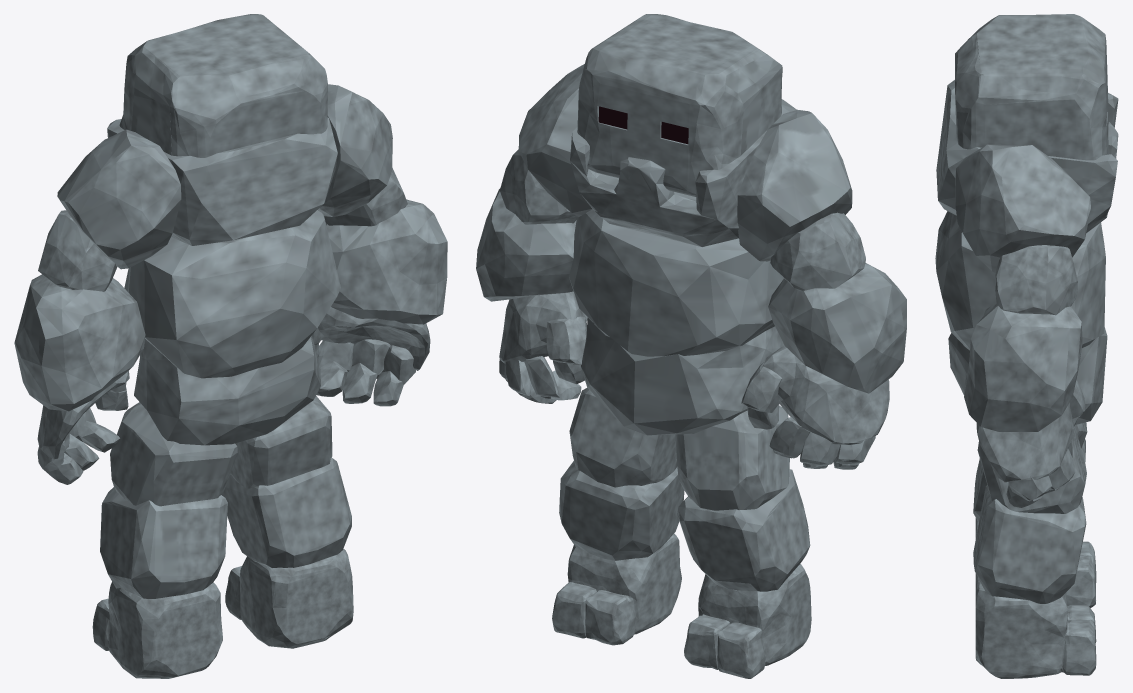
Rendered from Player.V.3.fbx.
The picture shows the model from 3 angles, left to right: view 1: azimuth 30°, elevation 25°; view 2: azimuth 150°, elevation 25°; view 3: azimuth 270°, elevation 25°; orthographic projection.
Parts seen in each view (by area): view 1: Cube.018, Cube.010, Cube.020, Cube.007, Cube.017, Cube.009, Cube.005, Cube.022, Cube.016, Cube.023, Cube.019, Cube.014 (+6 smaller); view 2: Cube.010, Cube.018, Cube.017, Cube.007, Cube.009, Cube.006, Cube.020, Cube.022, Cube.023, Cube.019, Cube.016, Cube.021 (+6 smaller); view 3: Cube.010, Cube.004, Cube.005, Cube.016, Cube.019, Cube.018, Cube.014, Cube.020, Cube.003, Cube.017, Cube.015, Cube.023 (+1 smaller).
Part boxes in pixels (<box>): Cube.018: <box>124,210,340,378</box>; Cube.010: <box>119,14,327,157</box>; Cube.020: <box>107,117,337,245</box>; Cube.007: <box>14,274,145,411</box>; Cube.017: <box>134,335,320,445</box>; Cube.009: <box>57,129,181,269</box>; Cube.005: <box>326,199,447,324</box>; Cube.022: <box>100,487,227,598</box>; Cube.016: <box>222,457,351,567</box>; Cube.023: <box>92,582,222,678</box>; Cube.019: <box>225,549,353,648</box>; Cube.014: <box>312,307,430,406</box>; Cube.010: <box>577,14,782,196</box>; Cube.018: <box>569,209,783,356</box>; Cube.017: <box>581,317,784,435</box>; Cube.007: <box>768,262,906,393</box>; Cube.009: <box>737,109,852,261</box>; Cube.006: <box>741,346,889,469</box>; Cube.020: <box>570,99,796,246</box>; Cube.022: <box>677,469,810,591</box>; Cube.023: <box>684,564,811,678</box>; Cube.019: <box>552,533,681,645</box>; Cube.016: <box>559,461,684,560</box>; Cube.021: <box>675,406,789,510</box>; Cube.010: <box>955,14,1108,160</box>; Cube.004: <box>955,144,1090,272</box>; Cube.005: <box>964,303,1082,431</box>; Cube.016: <box>973,485,1086,603</box>; Cube.019: <box>975,574,1096,678</box>; Cube.018: <box>935,211,1105,350</box>; Cube.014: <box>976,380,1085,508</box>; Cube.020: <box>936,80,1118,232</box>; Cube.003: <box>995,245,1077,315</box>; Cube.017: <box>948,327,1107,424</box>; Cube.015: <box>977,425,1086,513</box>; Cube.023: <box>975,518,1096,607</box>.
Size of the model in its own units: 246 by 346 by 97.36.
